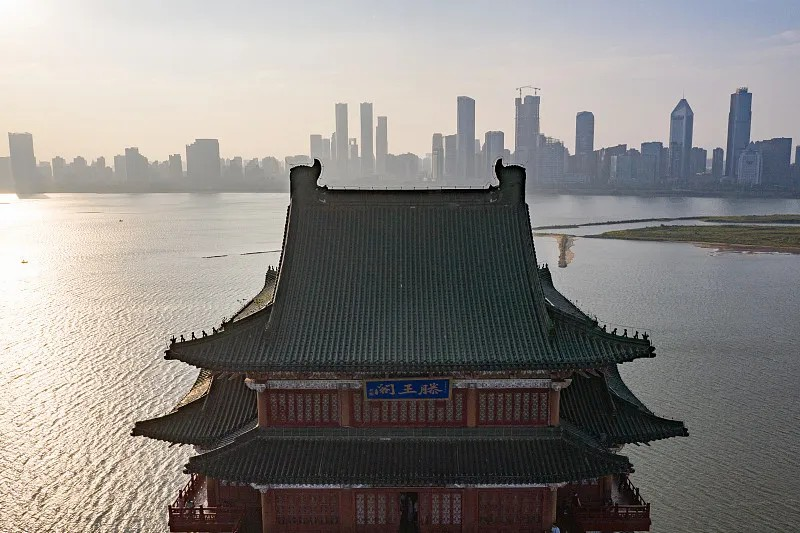Teng: (131, 157, 691, 533)
